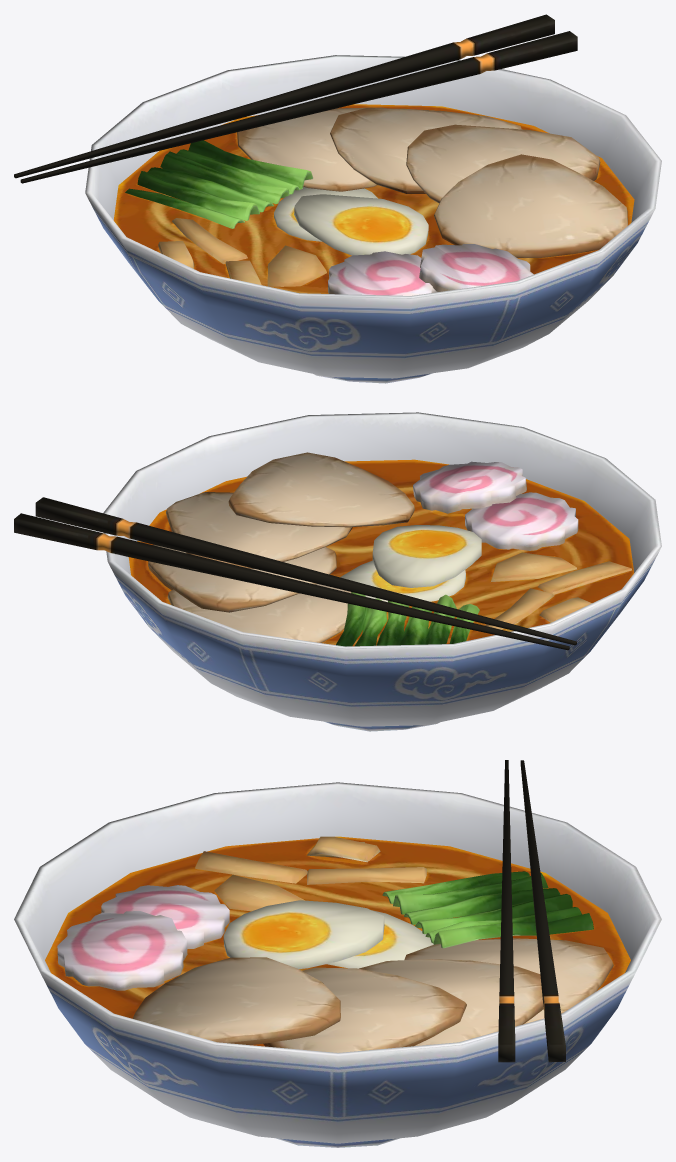
The picture shows the model from 3 angles, top to bottom: view 1: azimuth 30°, elevation 25°; view 2: azimuth 150°, elevation 25°; view 3: azimuth 270°, elevation 25°; orthographic projection. The views are drawn at different scales.
Parts seen in each view (by area): view 1: Assembla; view 2: Assembla; view 3: Assembla.
Part boxes in pixels (x1,y1,x2,y2): Assembla: [14, 14, 661, 383]; Assembla: [14, 412, 661, 731]; Assembla: [14, 760, 661, 1147].
Bounding box in the file's own units: 243 × 79.58 × 222.
1 material, 1 textured.
